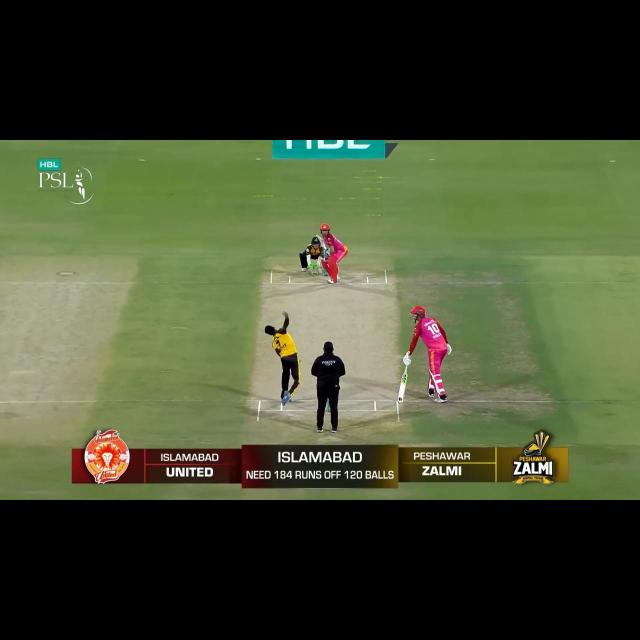bat: (397, 374, 408, 404), (315, 233, 328, 249)
toe: (315, 233, 322, 242), (398, 396, 404, 404)
